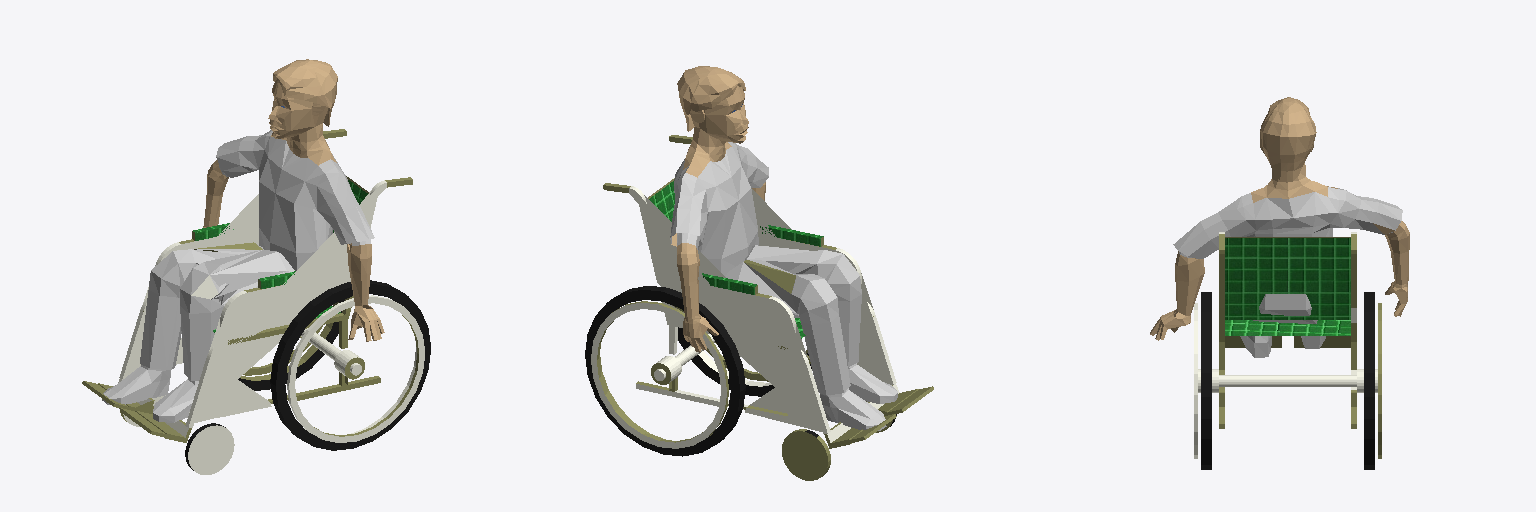
The picture shows the model from 3 angles: view 1: azimuth 30°, elevation 25°; view 2: azimuth 150°, elevation 25°; view 3: azimuth 270°, elevation 25°; orthographic projection.
Parts seen in each view (by area): view 1: Mesh9 Model, Mesh1 Model, Mesh4 Model, Mesh3 Model, Mesh11 Model, Mesh10 Model, Mesh2 Model, Mesh14 Model, Mesh12 Model, Mesh5 Model, Mesh13 Model; view 2: Mesh9 Model, Mesh1 Model, Mesh5 Model, Mesh6 Model, Mesh13 Model, Mesh11 Model, Mesh8 Model, Mesh14 Model, Mesh12 Model, Mesh4 Model, Mesh7 Model; view 3: Mesh1 Model, Mesh9 Model, Mesh11 Model, Mesh10 Model, Mesh4 Model, Mesh5 Model, Mesh13 Model, Mesh6 Model, Mesh3 Model, Mesh12 Model.
Part boxes in pixels (x1,y1,x2,y2): Mesh9 Model: (140, 79, 374, 380); Mesh1 Model: (82, 129, 412, 442); Mesh4 Model: (270, 280, 430, 450); Mesh3 Model: (287, 295, 424, 442); Mesh11 Model: (273, 59, 337, 126); Mesh10 Model: (347, 240, 384, 341); Mesh2 Model: (185, 423, 234, 474); Mesh14 Model: (102, 365, 170, 404); Mesh12 Model: (153, 378, 198, 422); Mesh5 Model: (238, 299, 344, 390); Mesh13 Model: (203, 160, 257, 227); Mesh9 Model: (670, 86, 861, 395); Mesh1 Model: (603, 135, 933, 448); Mesh5 Model: (585, 286, 745, 456); Mesh6 Model: (591, 301, 728, 448); Mesh13 Model: (677, 233, 718, 352); Mesh11 Model: (677, 66, 745, 131); Mesh8 Model: (782, 429, 830, 480); Mesh14 Model: (820, 388, 886, 430); Mesh12 Model: (848, 363, 897, 403); Mesh4 Model: (678, 327, 811, 396); Mesh7 Model: (760, 225, 823, 246); Mesh1 Model: (1198, 232, 1377, 428); Mesh9 Model: (1173, 163, 1402, 323); Mesh11 Model: (1260, 97, 1316, 182); Mesh10 Model: (1150, 251, 1204, 340); Mesh4 Model: (1201, 292, 1211, 469); Mesh5 Model: (1364, 292, 1374, 469); Mesh13 Model: (1385, 221, 1409, 316); Mesh6 Model: (1378, 303, 1381, 458); Mesh3 Model: (1194, 303, 1197, 458); Mesh12 Model: (1240, 336, 1271, 357).
Size of the model in its own units: 1.05 by 1.31 by 0.8677.
7 materials, 1 textured.